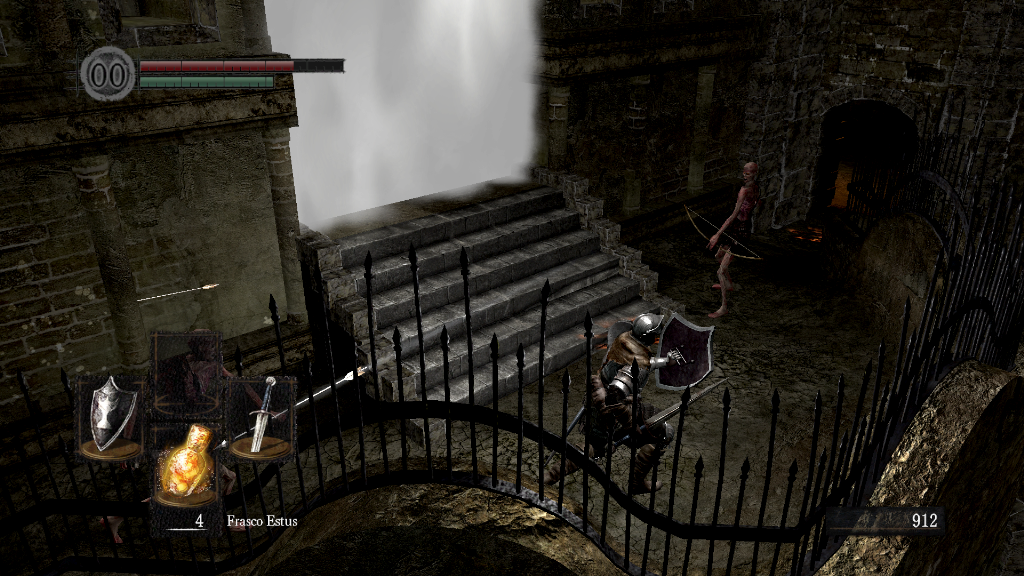health: (138, 58, 343, 71)
hollow: (705, 160, 758, 320)
humanity: (80, 45, 136, 102)
player: (545, 312, 729, 497)
souls: (825, 506, 945, 536)
stamina: (138, 74, 274, 88)
